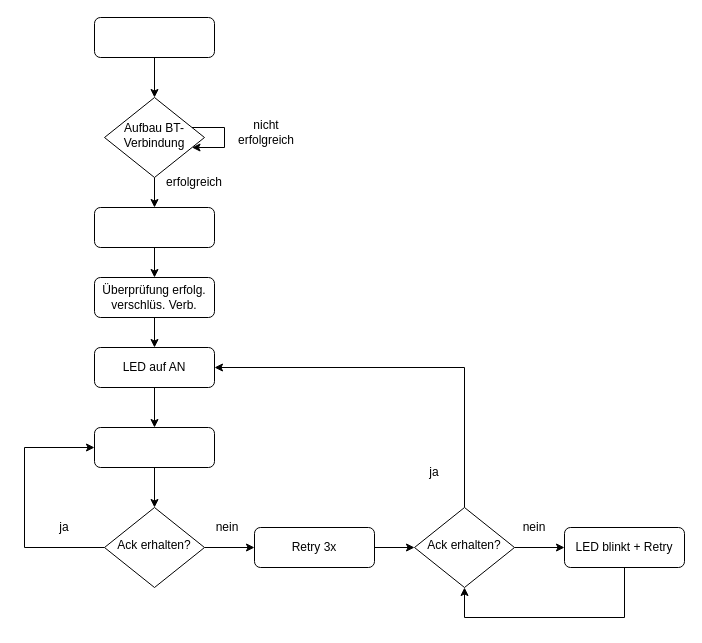
This 702x643 diagram has some shape labels left out. Here are the shapes that lost their labels. From the top down, the centre of each, then its label:
At point (154, 37): "Check int. Systeme".
At point (154, 227): "Schlüsselaustausch (DH)".
At point (154, 447): "Status + Daten Übermittlung".
